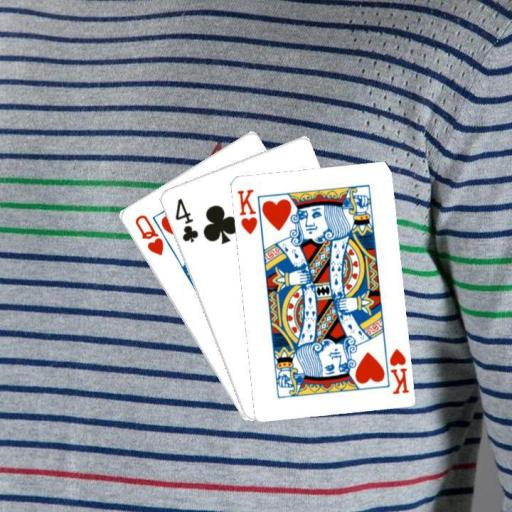4C: (171, 195, 200, 244)
KH: (234, 186, 259, 236), (386, 345, 410, 395)
QH: (131, 212, 165, 258)
